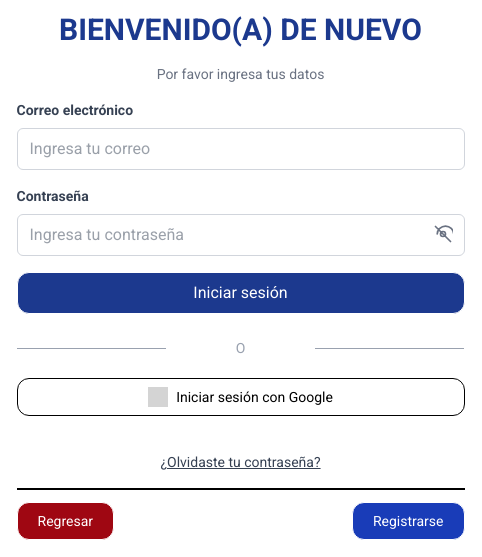
Login - Frontend › Muestra estado de carga mientras ocurre la petición
Step 1. Type "juan@test.com" into the field with placeholder "Ingresa tu correo" → (240, 149), box [16,128,464,170]
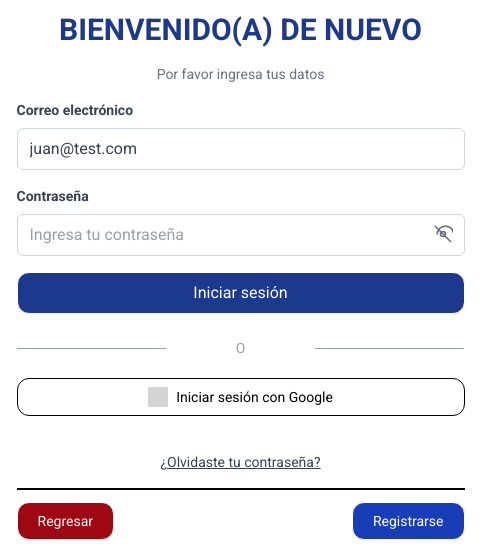
Step 2. Type "pass123" into the password field with placeholder "Ingresa tu contraseña" → (240, 235), box [16,214,464,256]
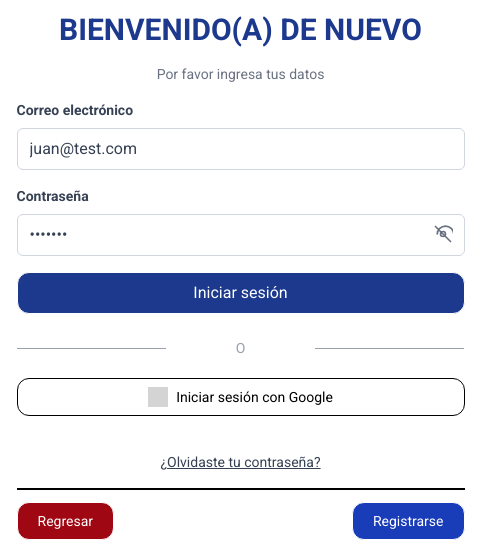
Step 3. Click the button "Iniciar sesión" → (240, 293), box [16,272,464,314]
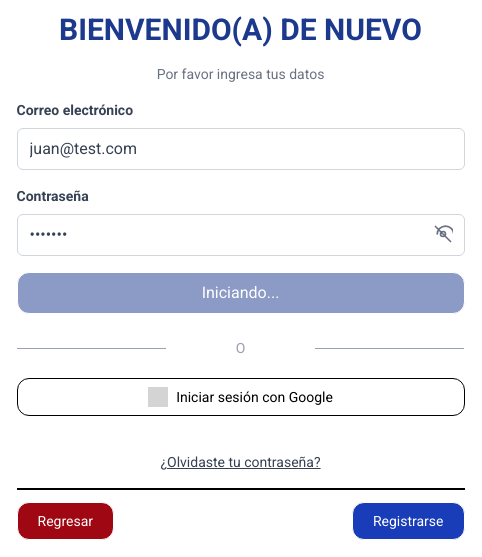
Expected: the button "Iniciando..." is shown, [16,272,464,314]
